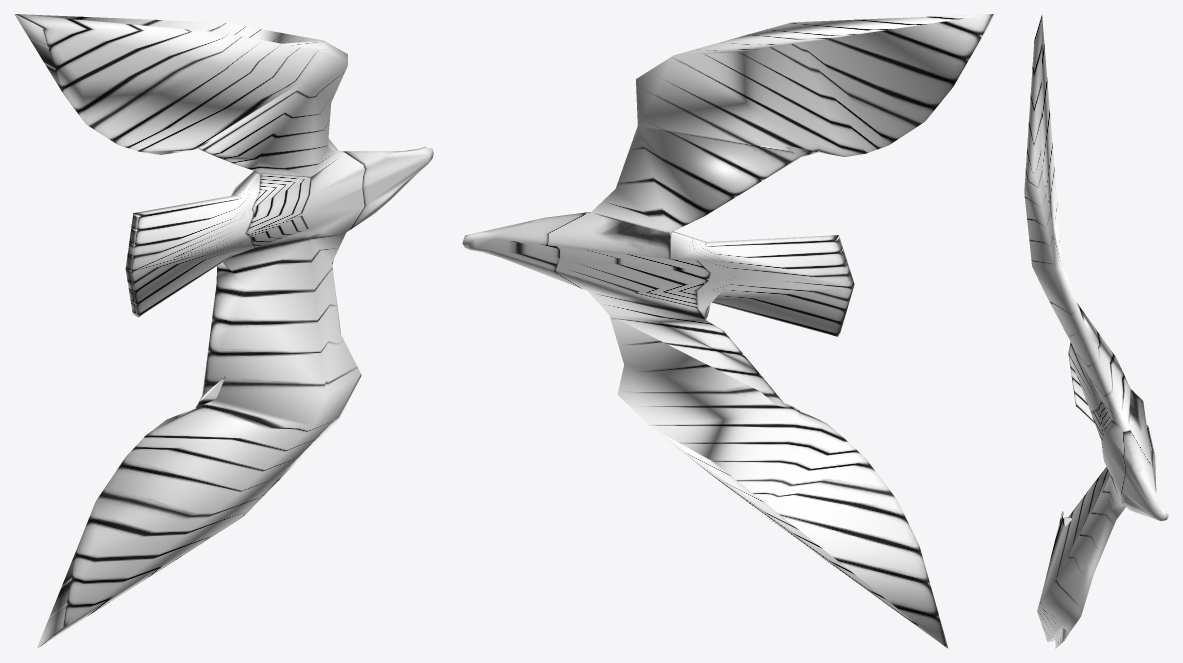
Rendered from seagull_000012.obj.
The picture shows the model from 3 angles, left to right: view 1: azimuth 30°, elevation 25°; view 2: azimuth 150°, elevation 25°; view 3: azimuth 270°, elevation 25°; orthographic projection. The views are drawn at different scales.
Visible parts, largest first — view 1: Seagull; view 2: Seagull; view 3: Seagull.
Boxes of the visible parts, x1,y1,x2,y2 form: Seagull: (14,14,433,648); Seagull: (462,14,995,648); Seagull: (1024,15,1168,648).
Size of the model in its own units: 0.7681 by 0.991 by 0.2132.
